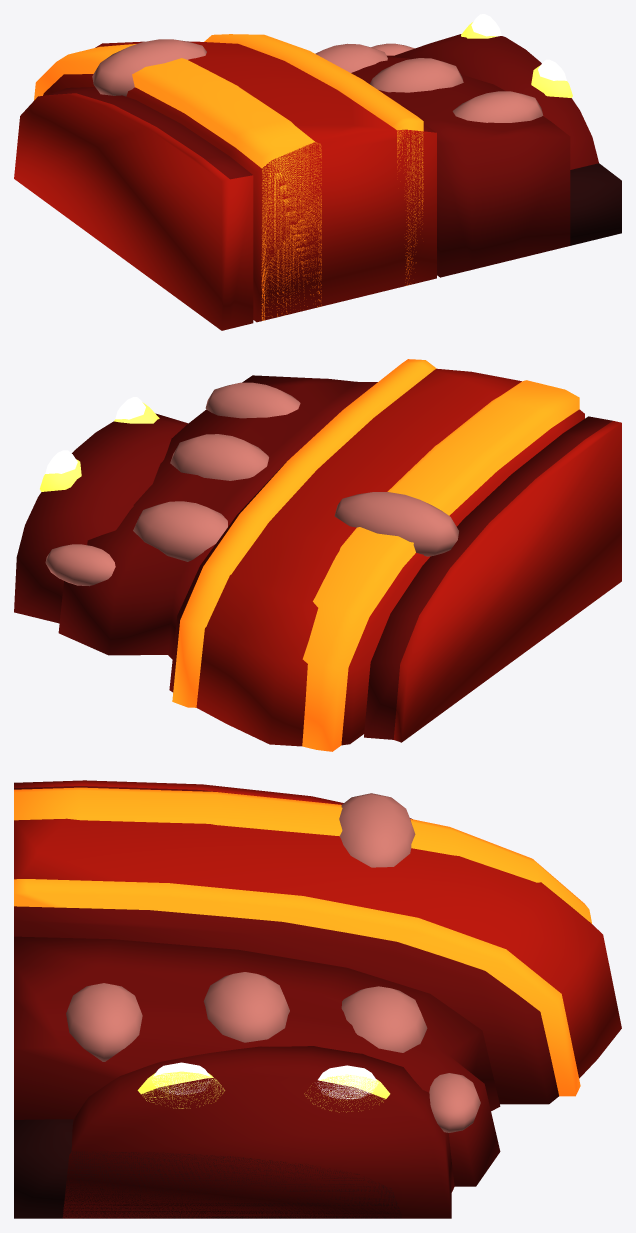
The model's file is newshe-89.glb.
The picture shows the model from 3 angles, top to bottom: view 1: azimuth 30°, elevation 25°; view 2: azimuth 150°, elevation 25°; view 3: azimuth 270°, elevation 25°; orthographic projection. The views are drawn at different scales.
Visible parts, largest first — view 1: newshe-89; view 2: newshe-89; view 3: newshe-89.
Boxes of the visible parts, box(x1,y1,x2,y2) form: newshe-89: box(14, 14, 621, 330); newshe-89: box(14, 359, 621, 751); newshe-89: box(14, 780, 621, 1218).
Bounding box in the file's own units: 2 × 0.81 × 2.08.
